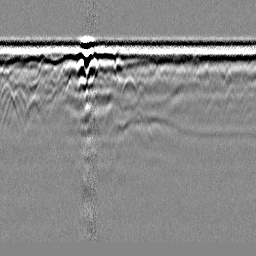cavity: (119, 73, 140, 103)
